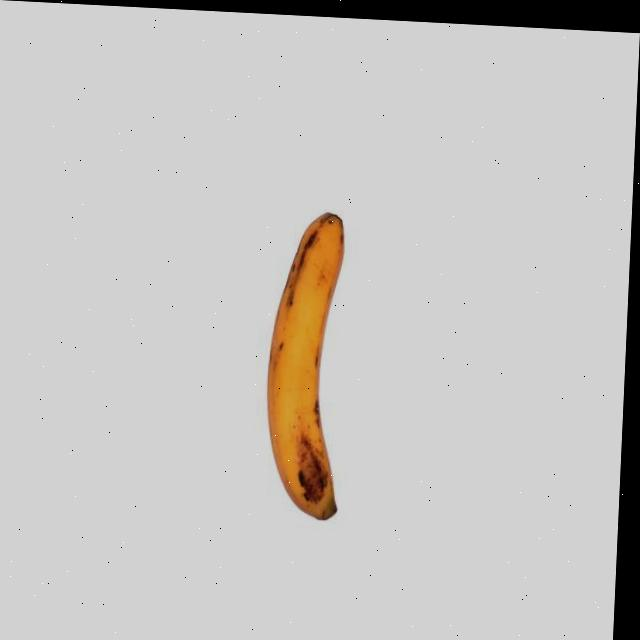banana: (261, 205, 358, 525)
